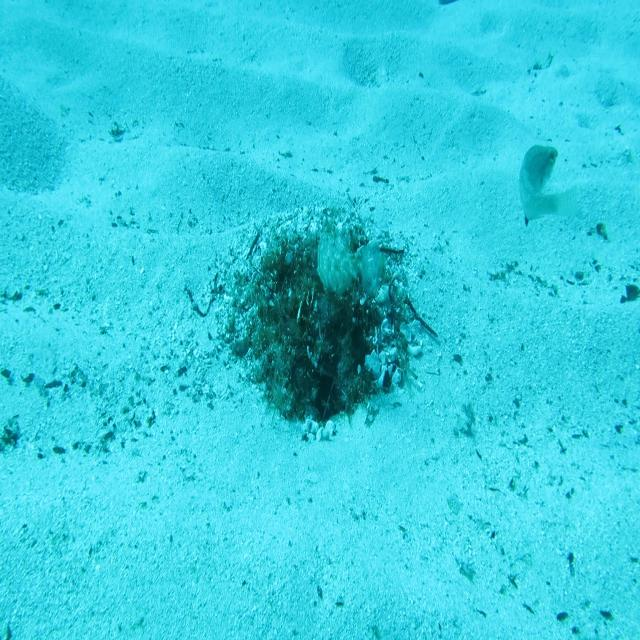NIP_CORE: (304, 213, 384, 301)
core_nest: (289, 260, 339, 295)
female: (515, 141, 579, 230)
nest: (207, 193, 427, 451)
vegetation: (622, 282, 640, 303)
